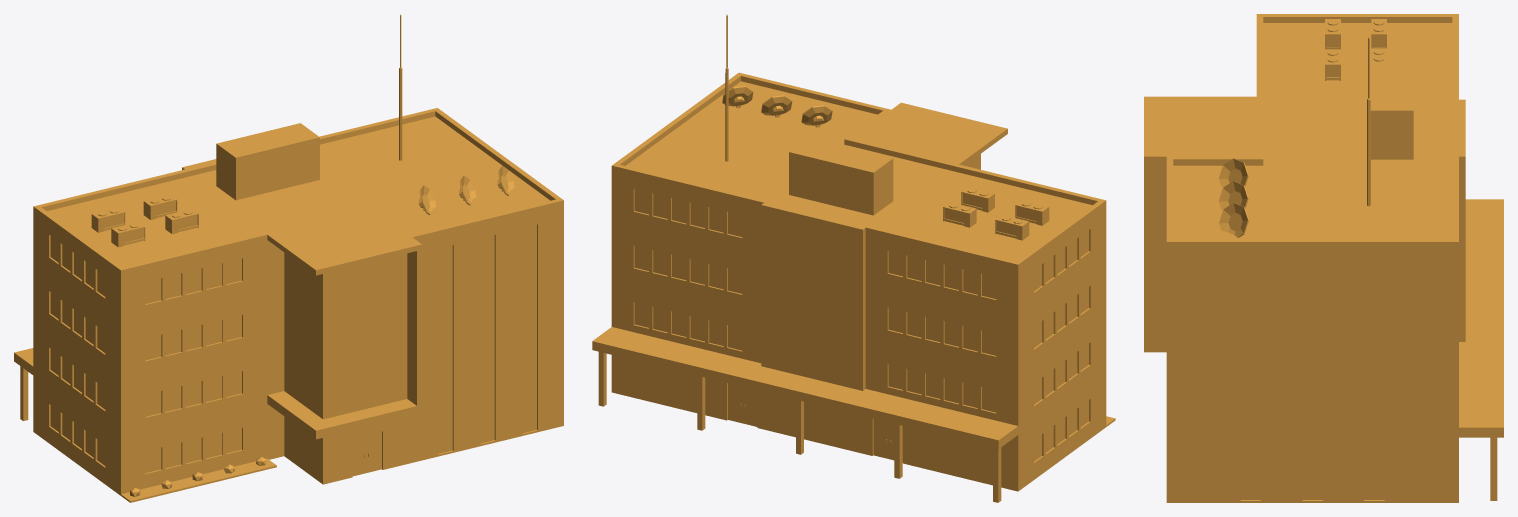
Rendered from data-center.fbx.
The picture shows the model from 3 angles, left to right: view 1: azimuth 30°, elevation 25°; view 2: azimuth 150°, elevation 25°; view 3: azimuth 270°, elevation 25°; orthographic projection. The views are drawn at different scales.
Parts seen in each view (by area): view 1: data-center; view 2: data-center; view 3: data-center.
Boxes of the visible parts, bbox=[...] form: data-center: bbox=[14, 14, 563, 502]; data-center: bbox=[592, 14, 1115, 502]; data-center: bbox=[1144, 14, 1503, 502].
Size of the model in its own units: 24 by 20.79 by 16.
